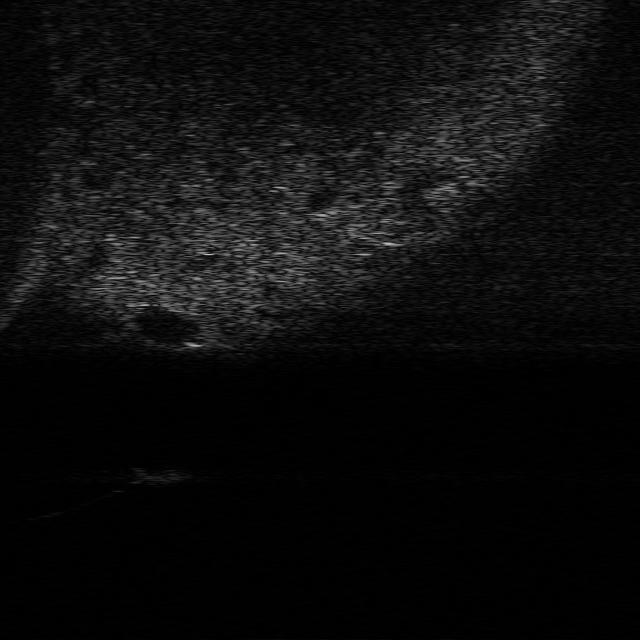cube: (131, 466, 190, 486)
